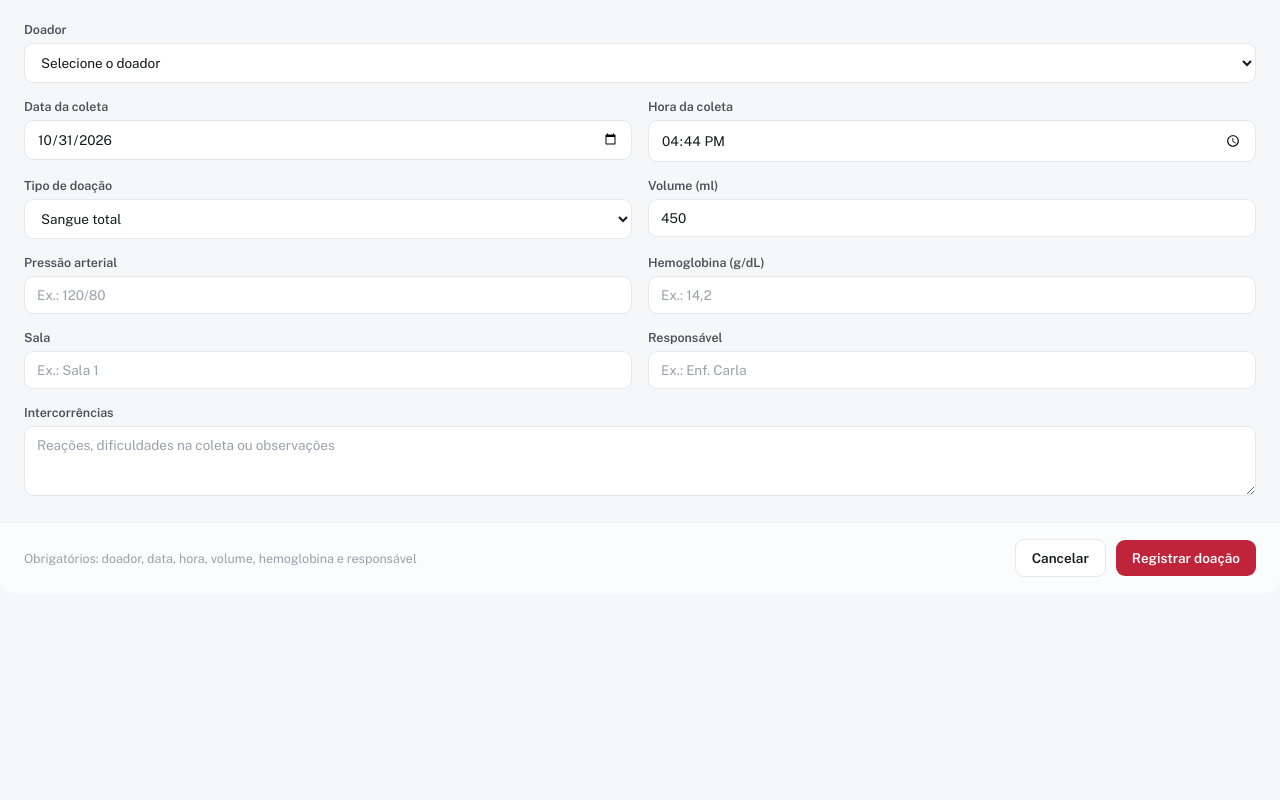
DoacaoForm › não envia quando a data da coleta fere o intervalo mínimo entre doações
Select "Ana Souza · 529.982.247-25 · O-" in the dropdown labelled "Doador" at (640, 63), box [24, 43, 1256, 83]
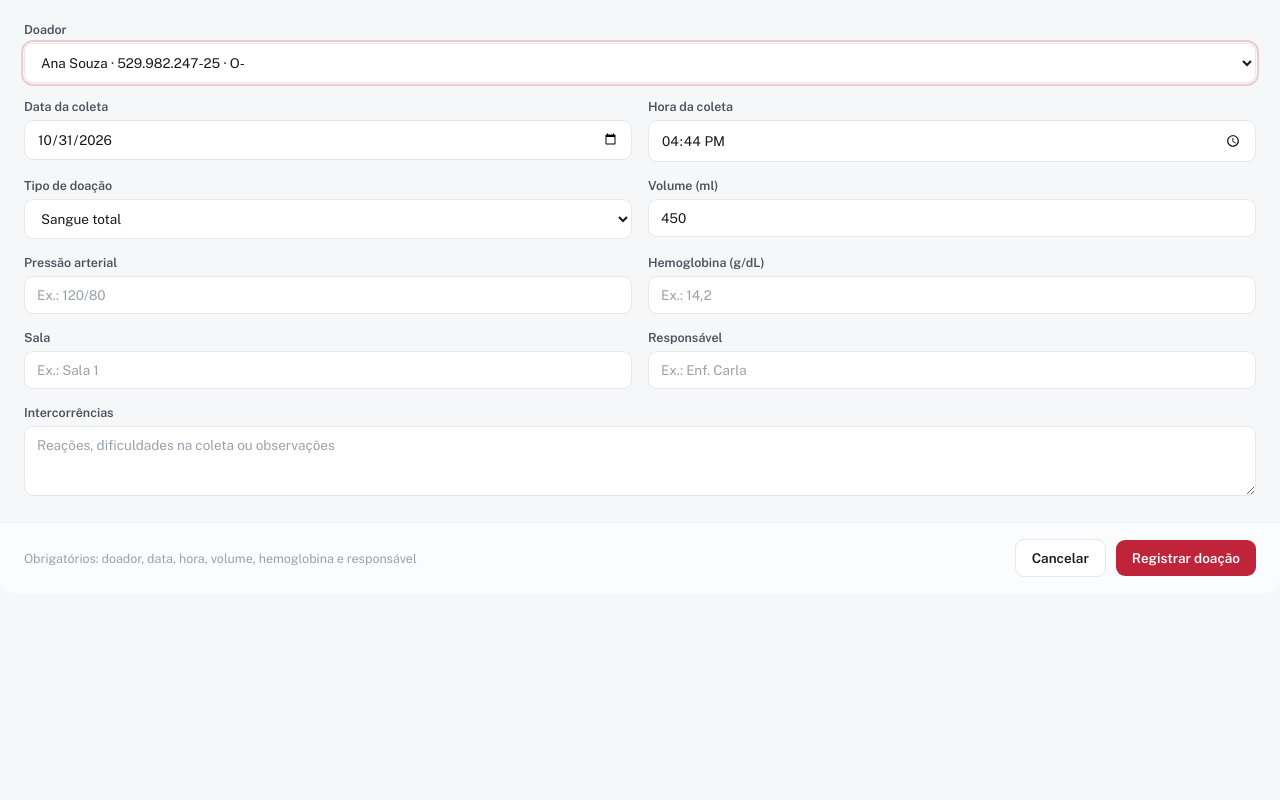
Type "2026-06-01" into the date field labelled "Data da coleta".
click(328, 140); type("2026-06-01")  # box [24, 120, 632, 160]
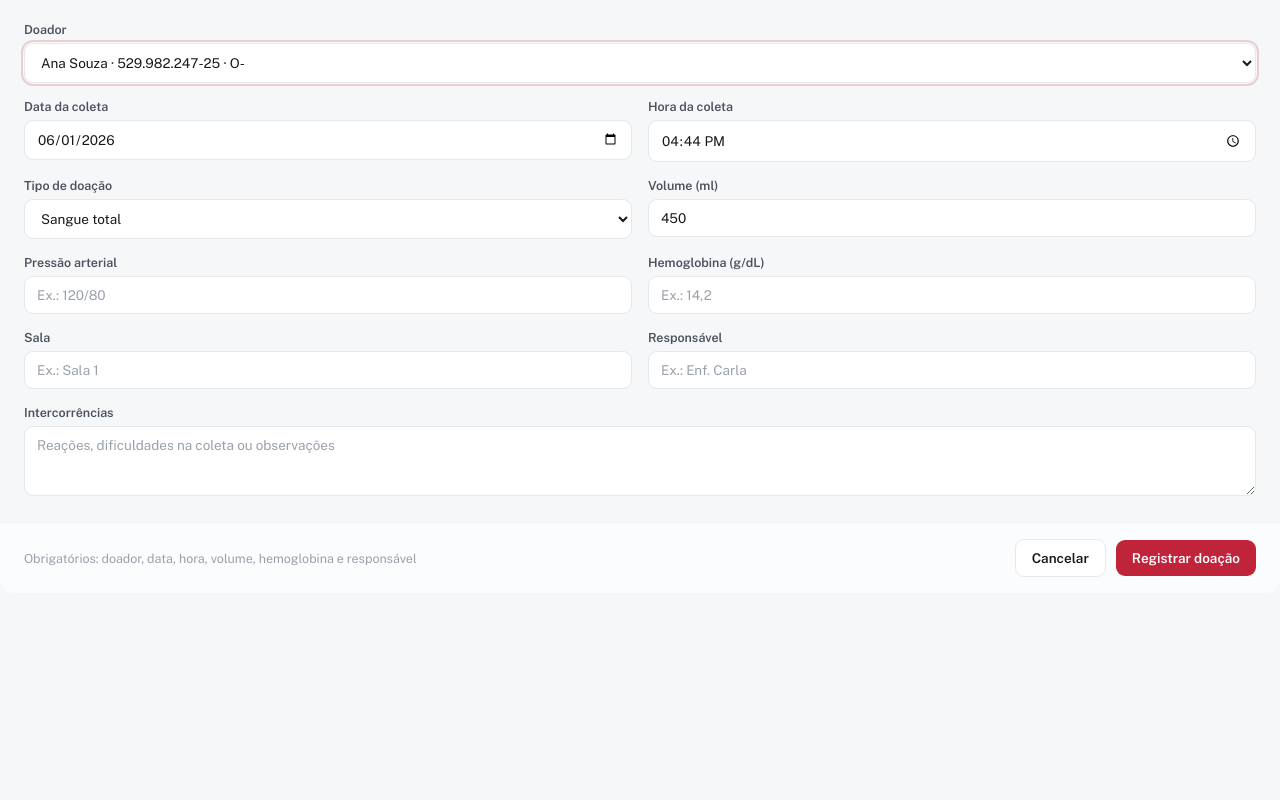
Type "14,2" into the field labelled "Hemoglobina (g/dL)".
click(952, 295); type("14,2")  # box [648, 276, 1256, 314]
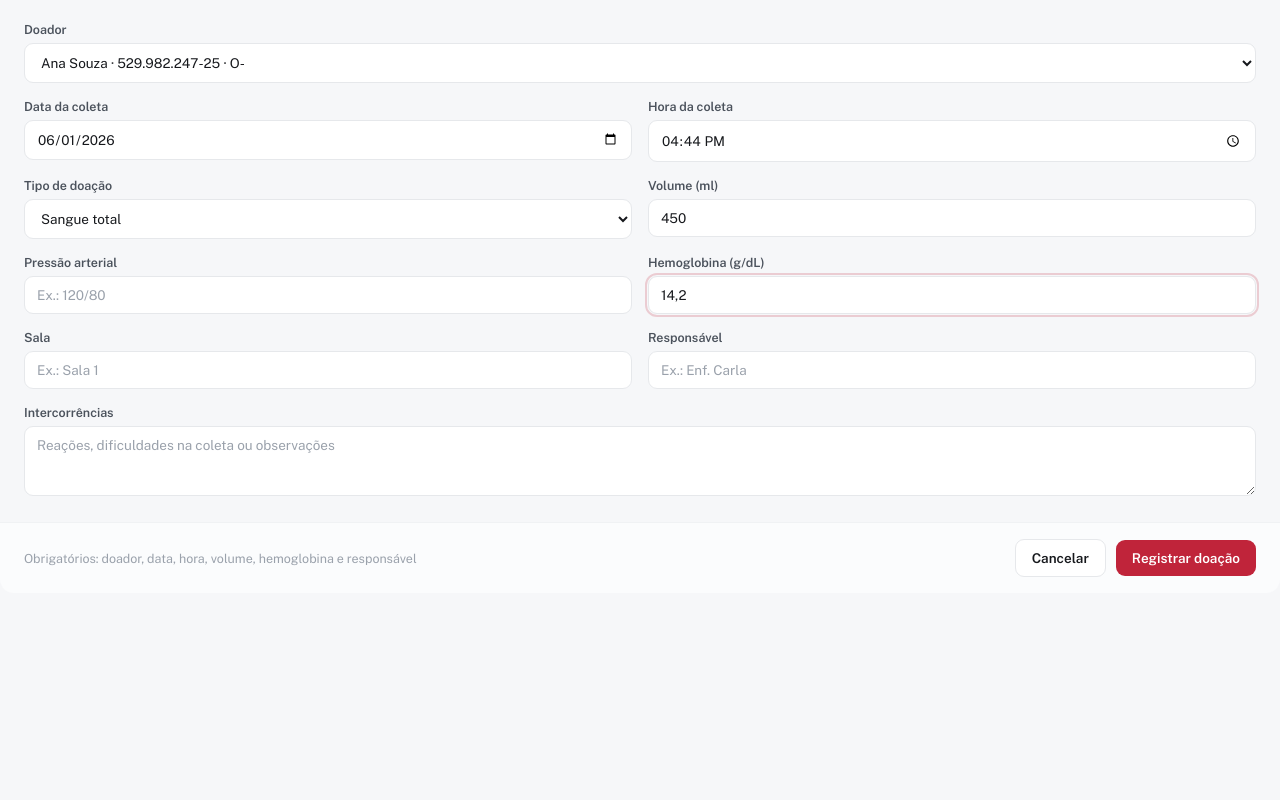
Type "Enf. Carla" into the field labelled "Responsável".
click(952, 370); type("Enf. Carla")  # box [648, 351, 1256, 389]
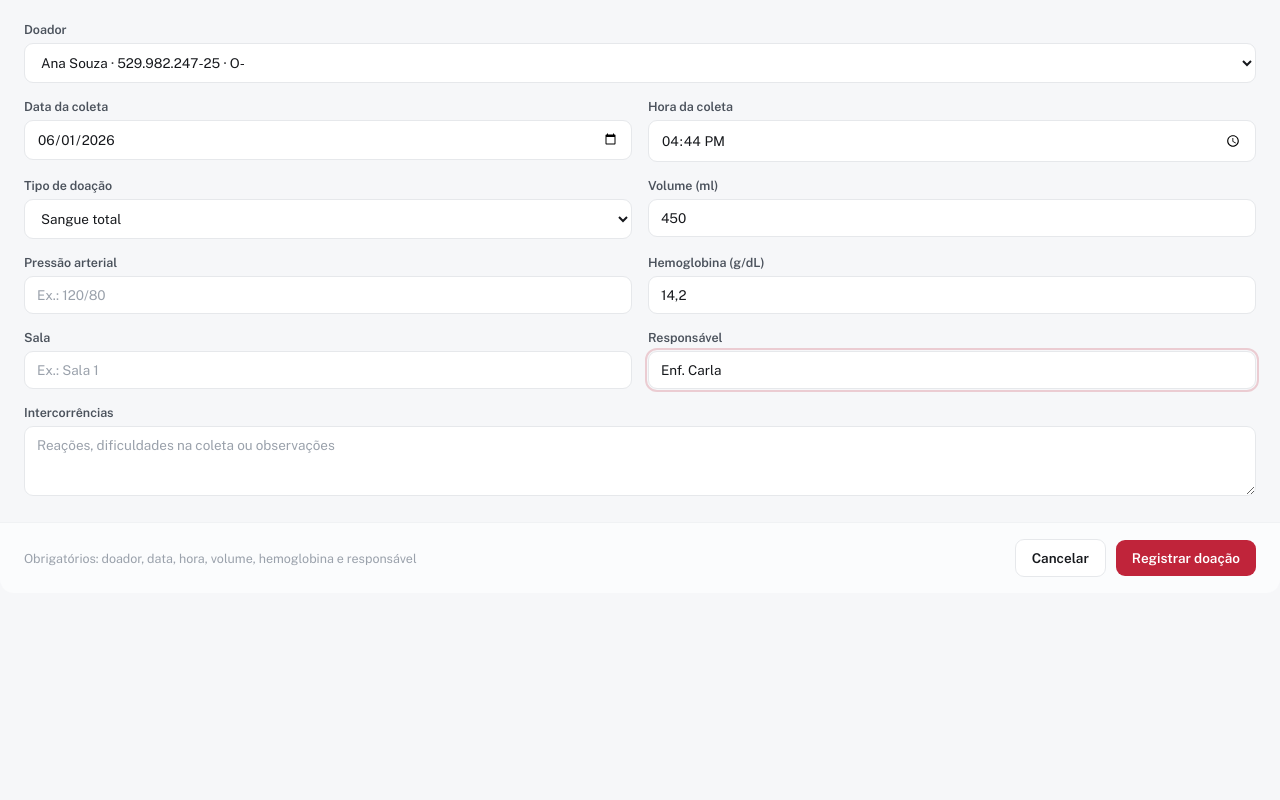
Click the button "Registrar doação".
click(1186, 558)  # box [1116, 540, 1256, 576]
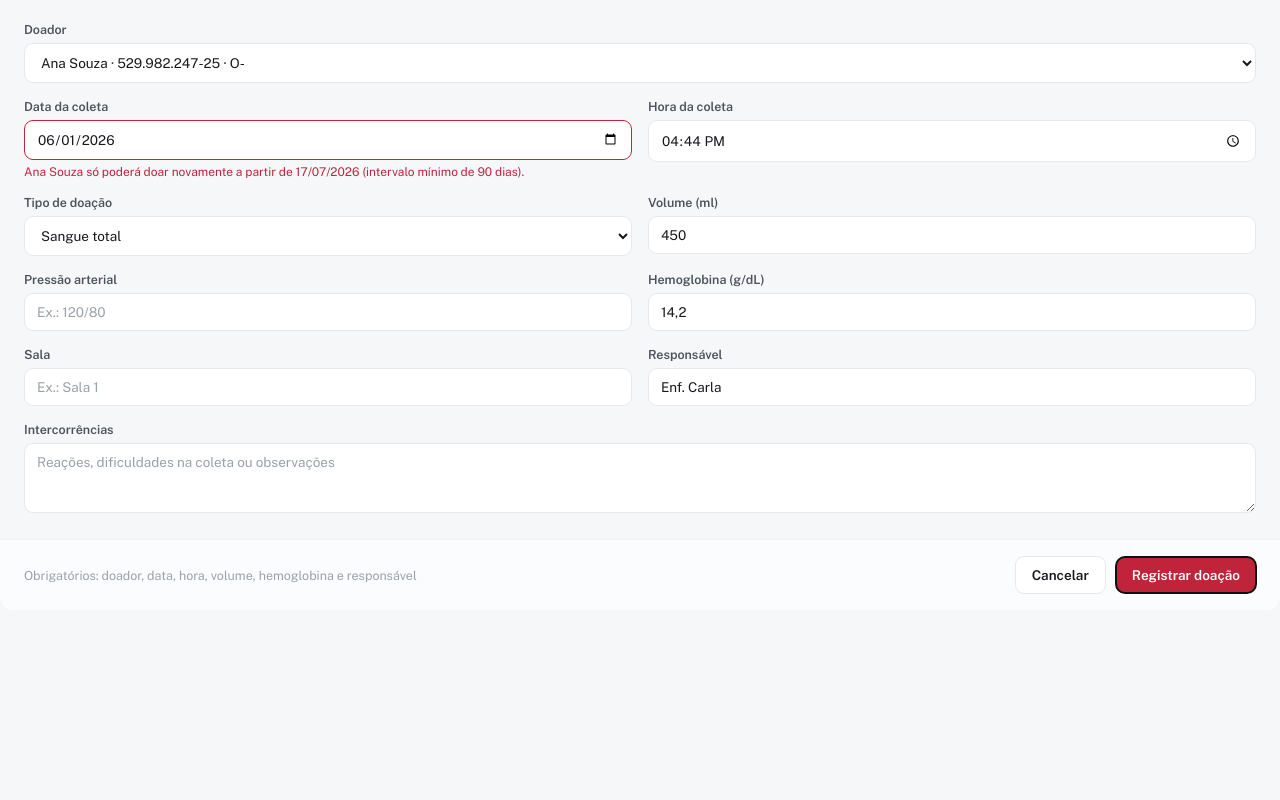
Now the text "Ana Souza só poderá doar novamente a partir de 17/07/2026 (intervalo mínimo de 90 dias)." is shown, box [24, 165, 524, 179]
